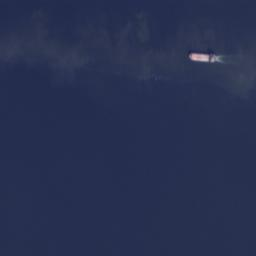boat: (188, 51, 216, 62)
